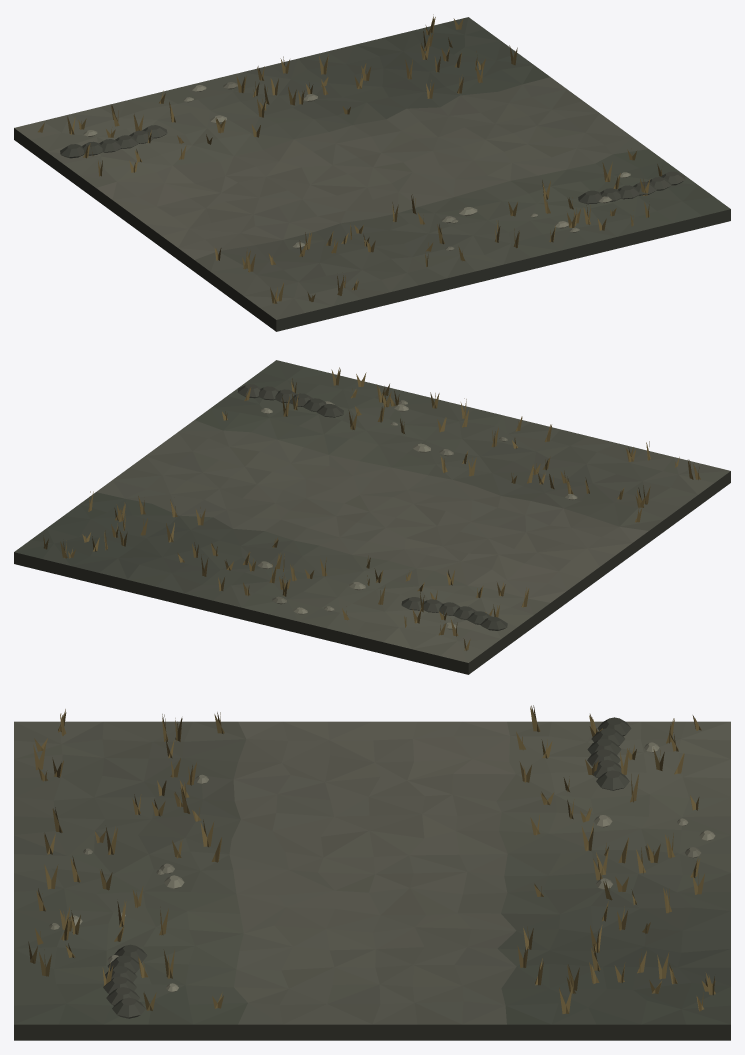
The model's file is CHUNK_TRANS_ash_grassland__dark_canopy_forest__0.glb.
The picture shows the model from 3 angles, top to bottom: view 1: azimuth 30°, elevation 25°; view 2: azimuth 150°, elevation 25°; view 3: azimuth 270°, elevation 25°; orthographic projection. The views are drawn at different scales.
Visible parts, largest first — view 1: CHUNK_TRANS_ash_grassland__dark_canopy_forest__0; view 2: CHUNK_TRANS_ash_grassland__dark_canopy_forest__0; view 3: CHUNK_TRANS_ash_grassland__dark_canopy_forest__0.
Boxes of the visible parts, box(x1,y1,x2,y2) form: CHUNK_TRANS_ash_grassland__dark_canopy_forest__0: box(14, 14, 730, 331); CHUNK_TRANS_ash_grassland__dark_canopy_forest__0: box(14, 360, 730, 674); CHUNK_TRANS_ash_grassland__dark_canopy_forest__0: box(14, 705, 730, 1040).
Bounding box in the file's own units: 8 × 0.5659 × 8.
